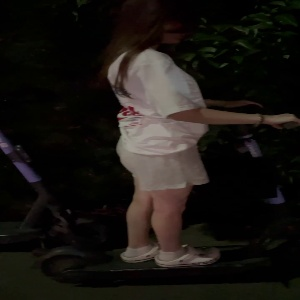human on a scooter: (26, 1, 300, 291)
